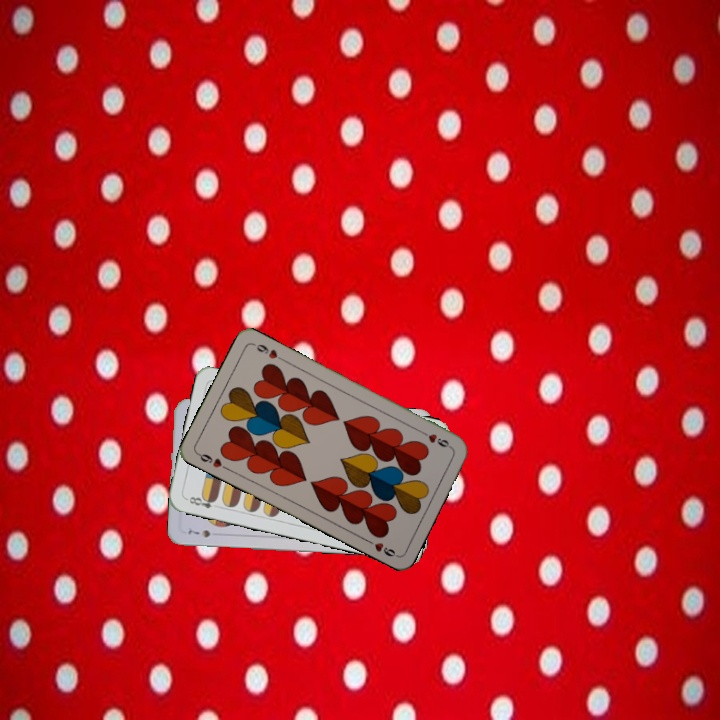E8: (182, 492, 219, 511)
H9: (416, 426, 454, 451), (193, 449, 231, 473)
S7: (184, 525, 213, 540)
